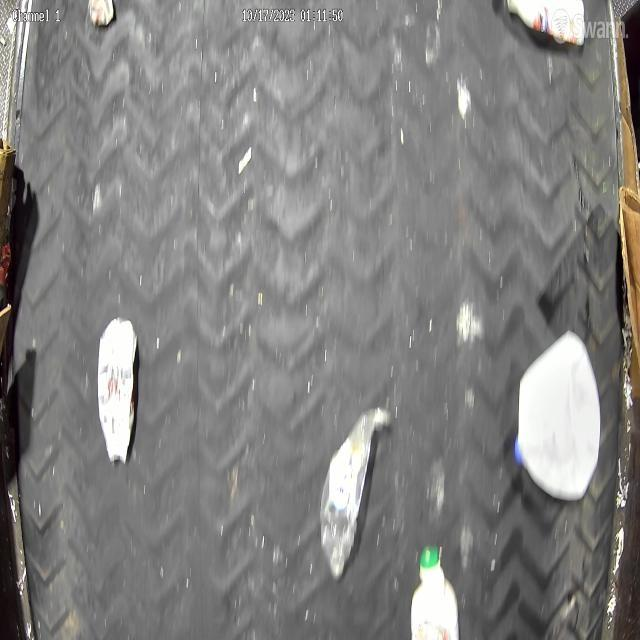milk_jug: (514, 330, 602, 506)
plastic_bottle: (322, 405, 384, 578)
